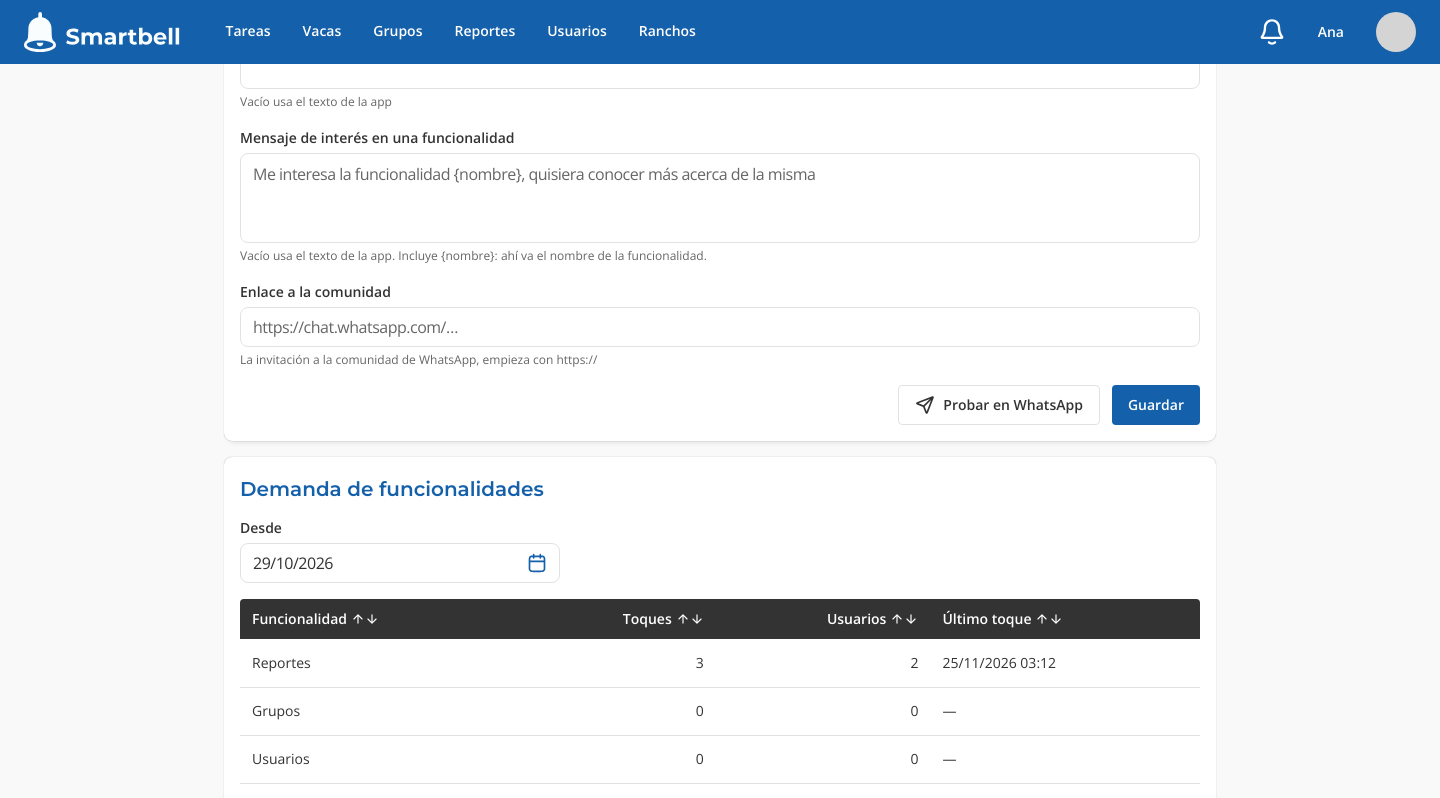
Soporte form › opens on a cached config but shows the fresh one once it arrives
(page scrolled)
Click the button "Guardar" at (1156, 405), box [1112,385,1200,425]
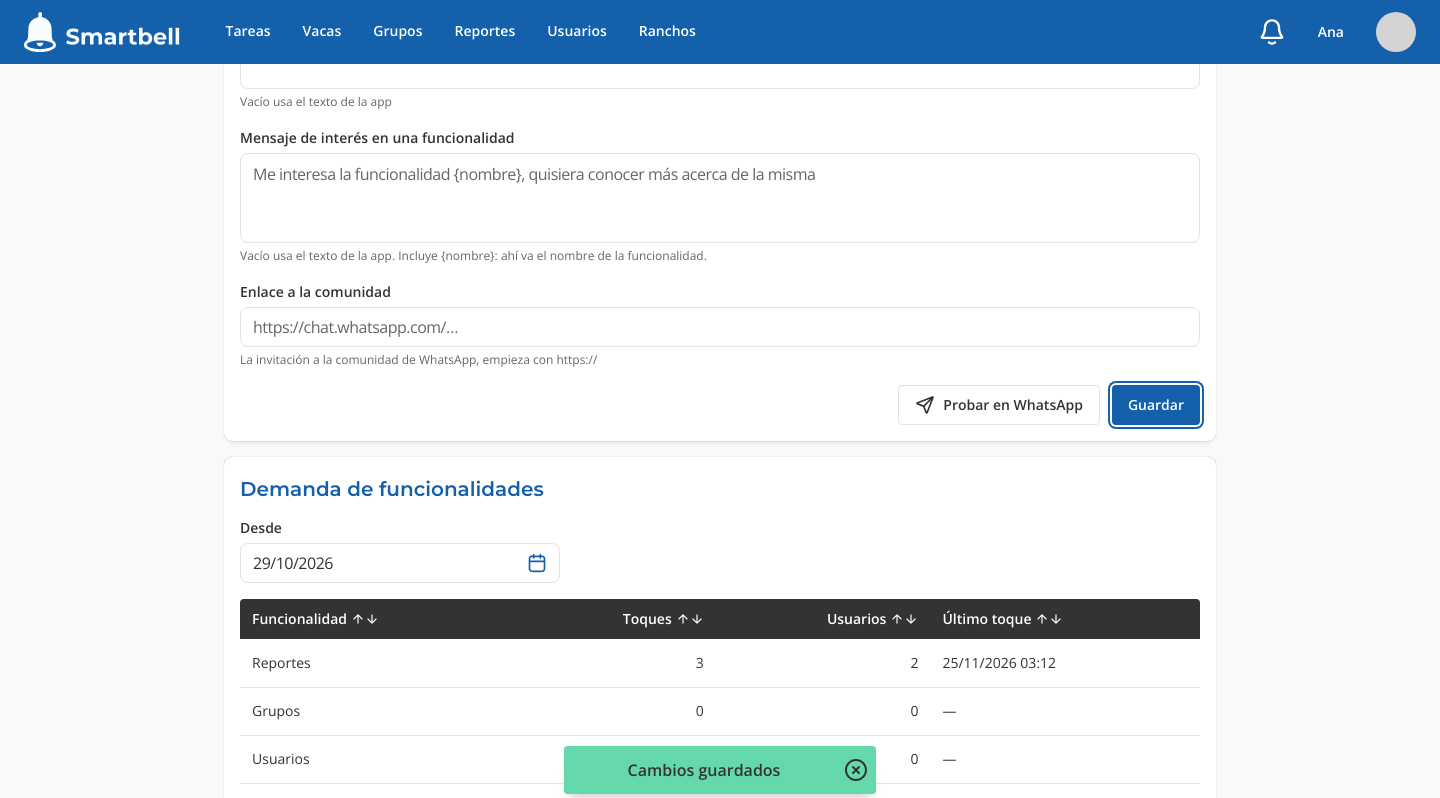
Expected: the text "Cambios guardados" is shown, [628,759,780,781]
